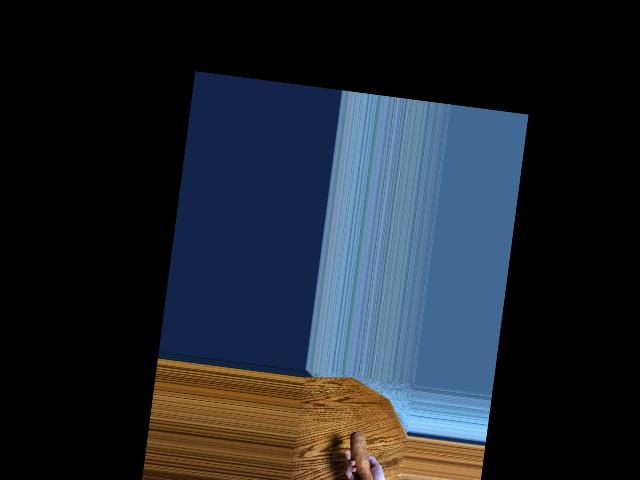sweet_potato: (340, 429, 388, 480)
